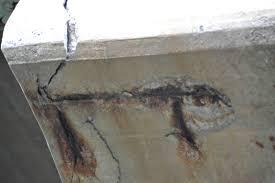spalling: (25, 76, 236, 178)
